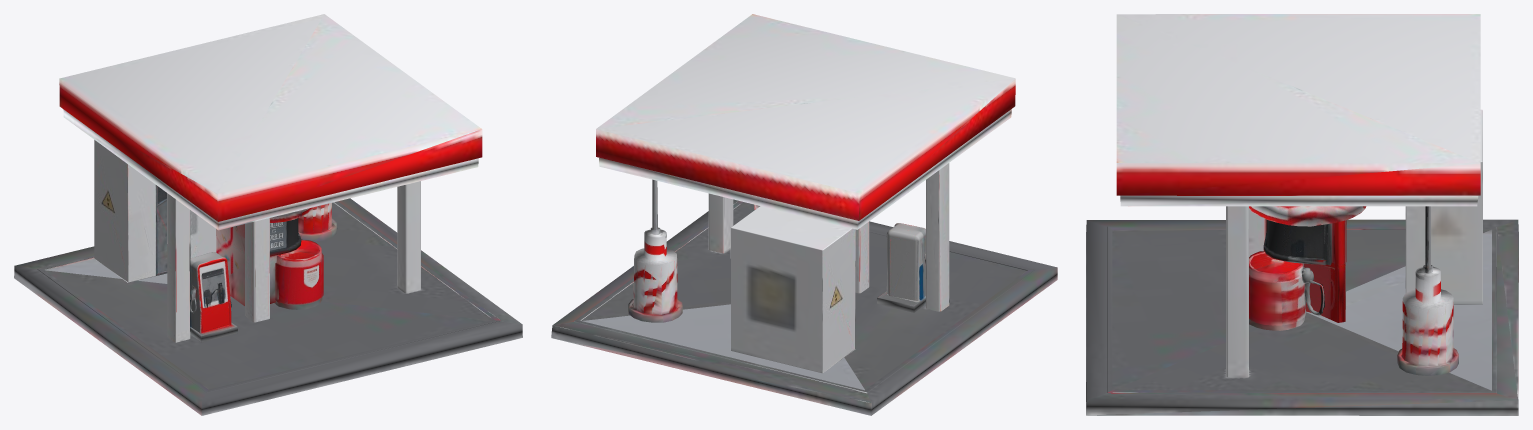
The model's file is tank.glb.
The picture shows the model from 3 angles, left to right: view 1: azimuth 30°, elevation 25°; view 2: azimuth 150°, elevation 25°; view 3: azimuth 270°, elevation 25°; orthographic projection. The views are drawn at different scales.
Bounding box in the file's own units: 0.9497 × 0.5791 × 0.958.
Materials: 1 (1 with a texture image).
